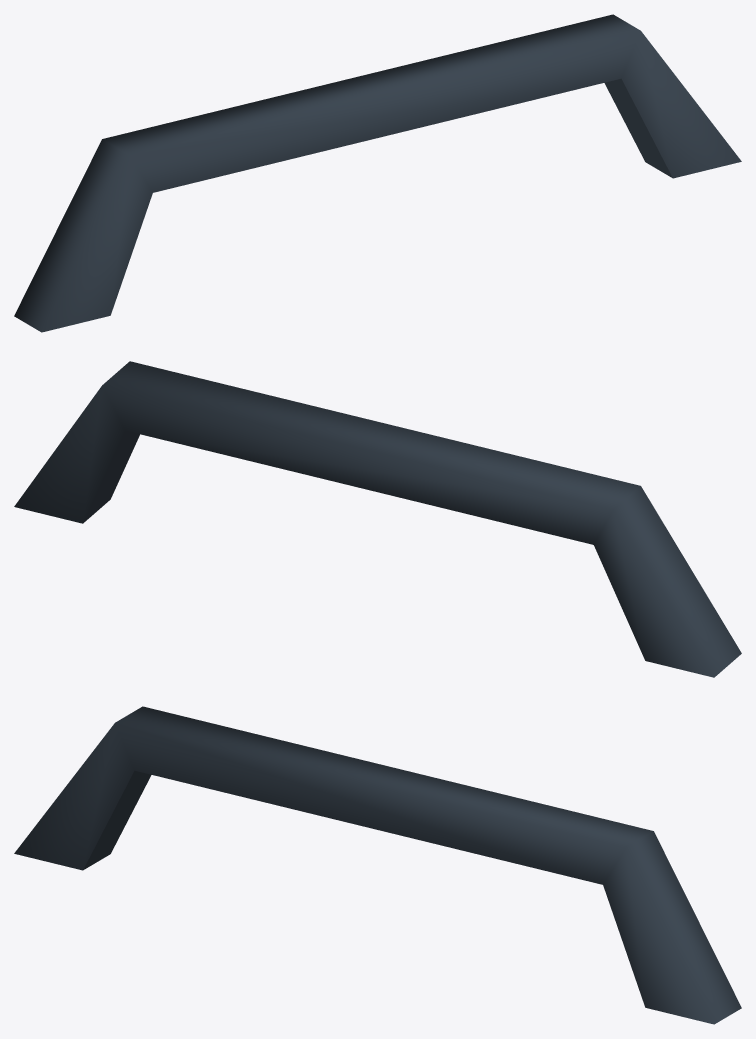
The model's file is original-11.obj.
The picture shows the model from 3 angles, top to bottom: view 1: azimuth 30°, elevation 25°; view 2: azimuth 150°, elevation 25°; view 3: azimuth 330°, elevation 25°; orthographic projection.
Visible parts, largest first — view 1: #ID99; view 2: #ID99; view 3: #ID99.
Boxes of the visible parts, box(x1,y1,x2,y2) form: #ID99: box(14, 14, 741, 332); #ID99: box(14, 361, 741, 677); #ID99: box(14, 706, 741, 1024).
Size of the model in its own units: 0.2856 by 0.0597 by 0.0241.
